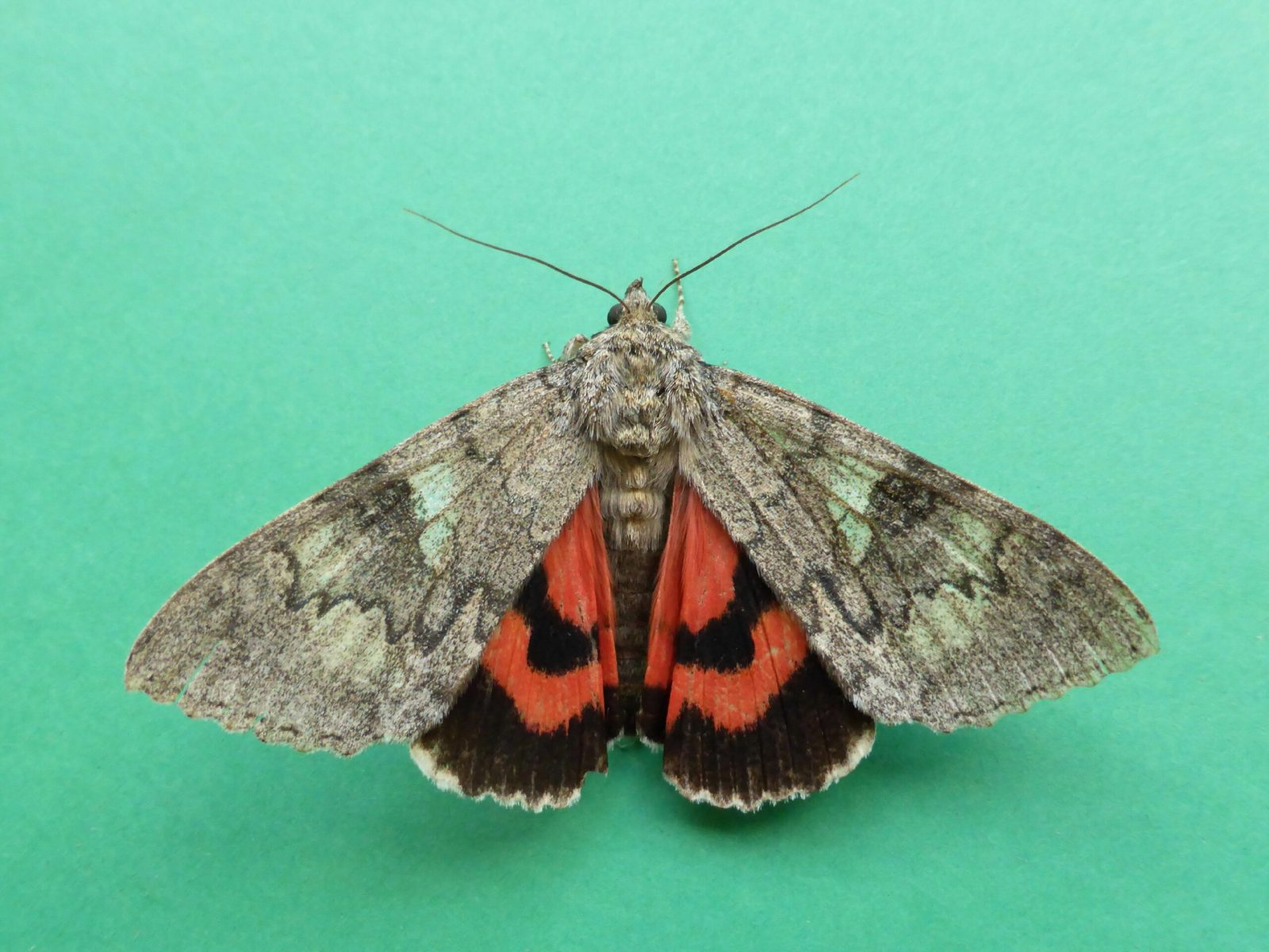Noctuidae: (117, 175, 1160, 818)
